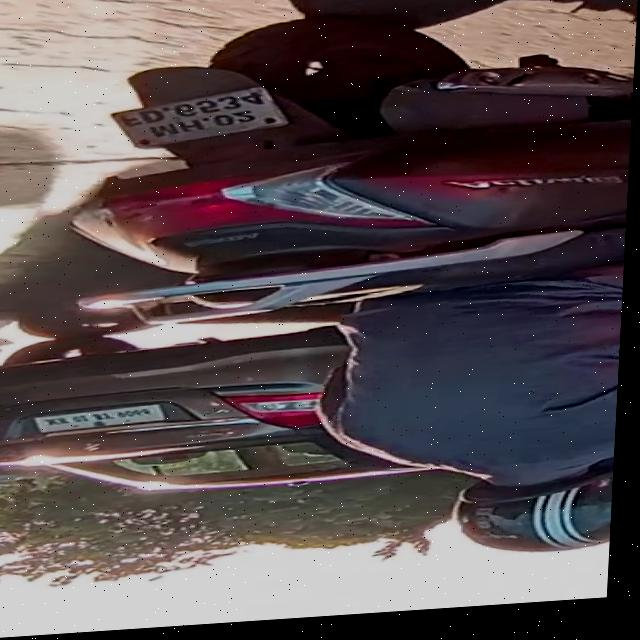plate: (111, 77, 291, 154), (37, 406, 178, 436)
